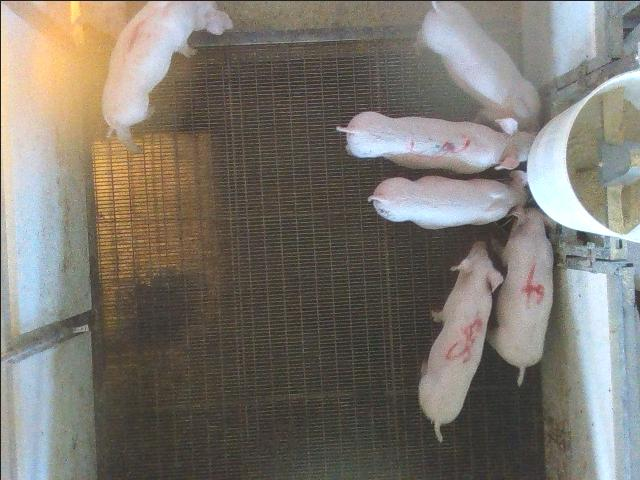pig-1: (101, 1, 231, 151)
pig-3: (336, 112, 534, 172)
pig-4: (488, 206, 552, 384)
pig-5: (418, 241, 502, 441)
